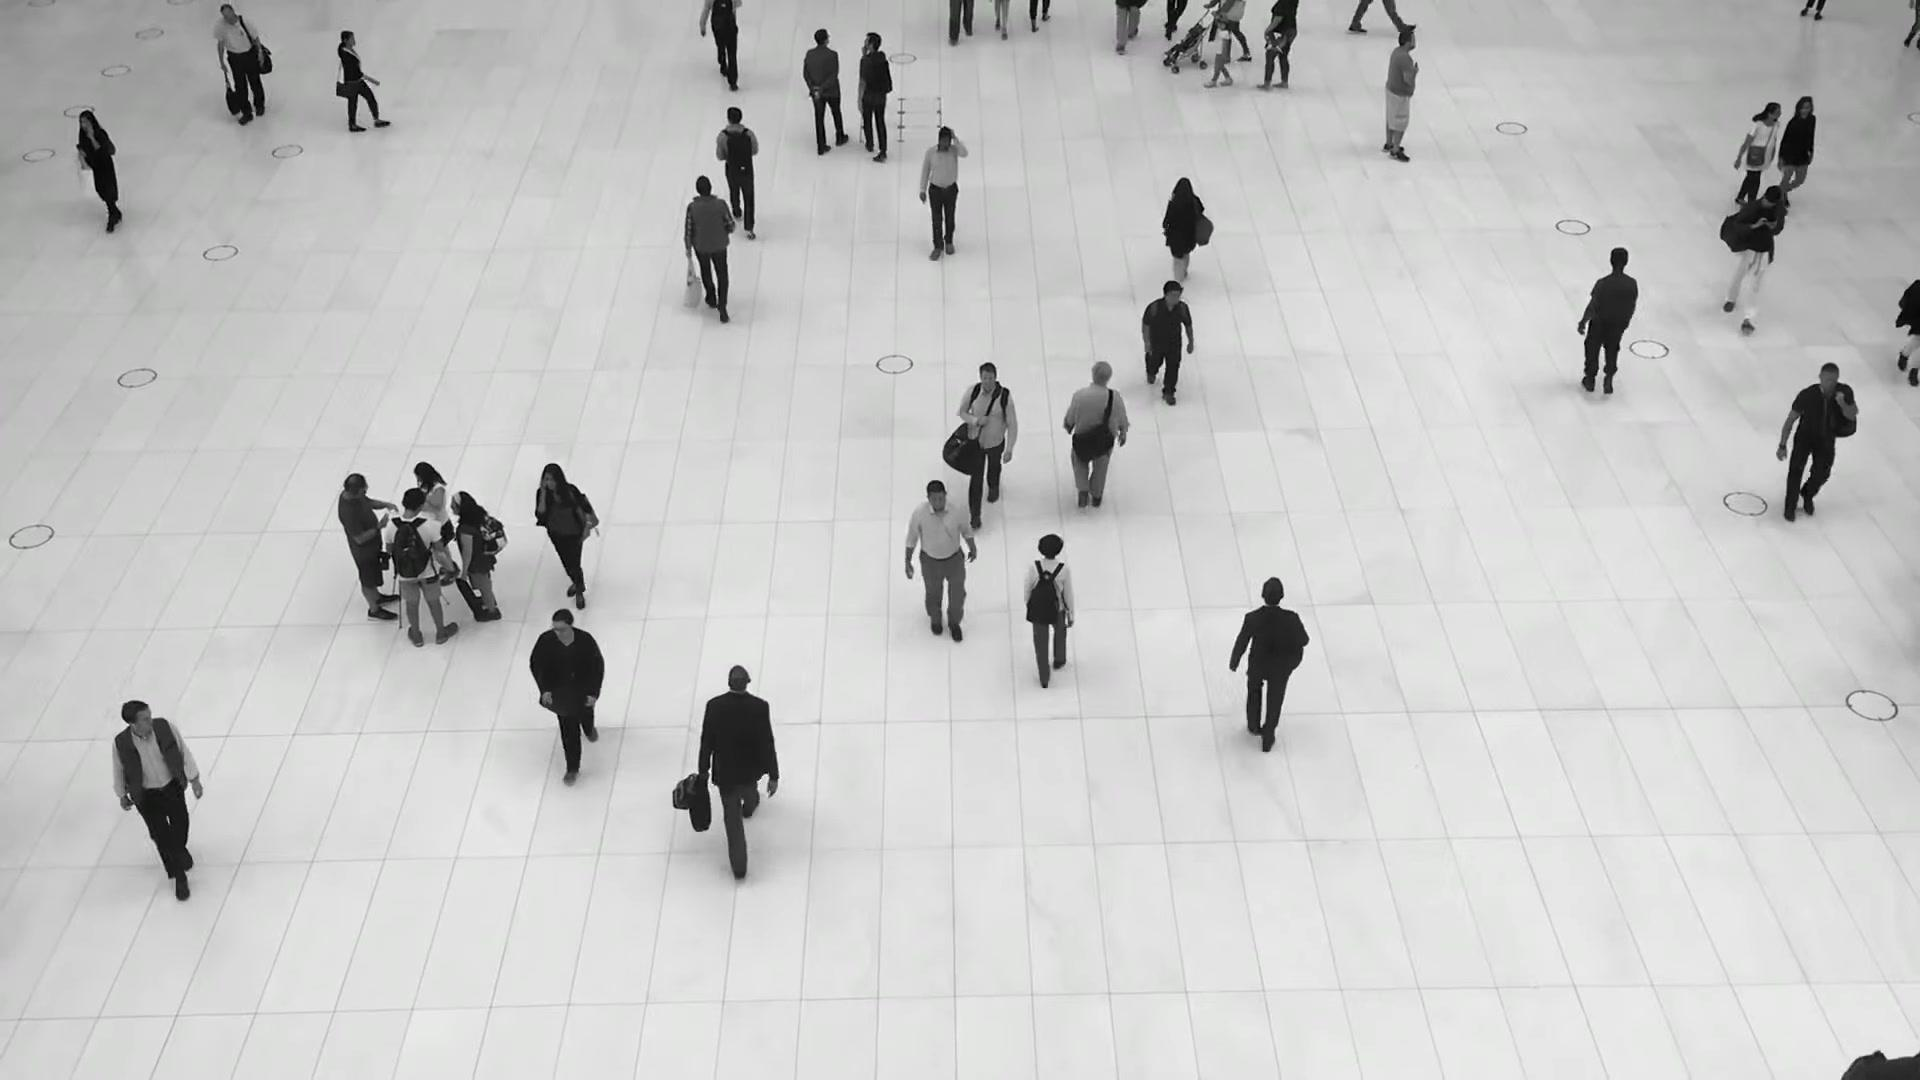person: (111, 700, 203, 907), (697, 665, 780, 876), (1227, 577, 1308, 758), (528, 608, 606, 785), (1777, 362, 1858, 522), (905, 479, 977, 648), (383, 487, 458, 648), (1061, 361, 1129, 511), (957, 361, 1017, 532), (534, 463, 599, 613), (1721, 185, 1785, 332), (337, 471, 400, 624), (1577, 246, 1638, 395), (1022, 534, 1075, 694), (683, 174, 735, 319), (449, 490, 502, 621), (915, 124, 965, 259), (1140, 279, 1194, 403), (211, 3, 265, 124), (334, 30, 396, 132), (1160, 176, 1214, 286), (412, 460, 459, 585), (715, 106, 759, 238), (802, 28, 847, 156), (76, 109, 123, 233), (1382, 27, 1420, 162), (1730, 101, 1780, 205), (856, 31, 892, 161), (1776, 95, 1815, 208), (699, 0, 745, 91), (1252, 0, 1298, 91), (1205, 18, 1232, 88)
